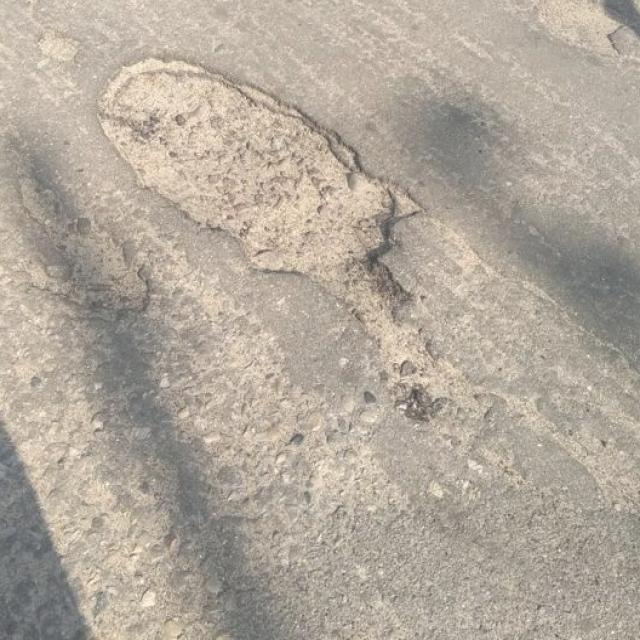road-pothole: (84, 51, 497, 420)
